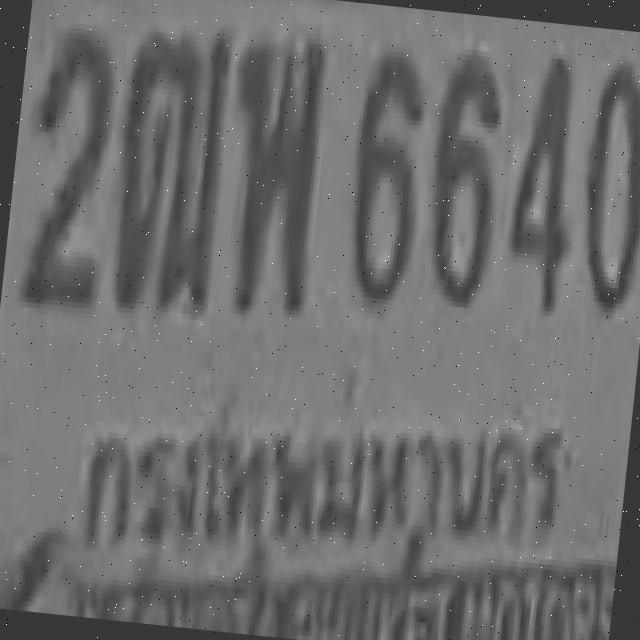0: (571, 55, 640, 312)
2: (14, 20, 118, 303)
27ThorPhuThao: (104, 21, 231, 312)
39PhorPan: (215, 26, 327, 310)
4: (500, 48, 584, 310)
6: (338, 42, 430, 304), (417, 47, 506, 304)
Bangkok: (42, 324, 577, 596)
